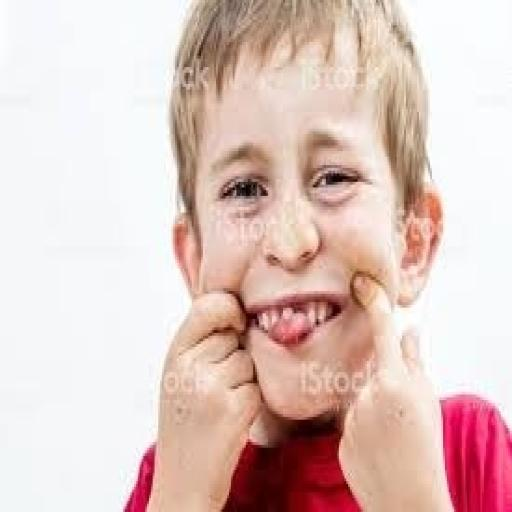laughing: (104, 0, 510, 509)
